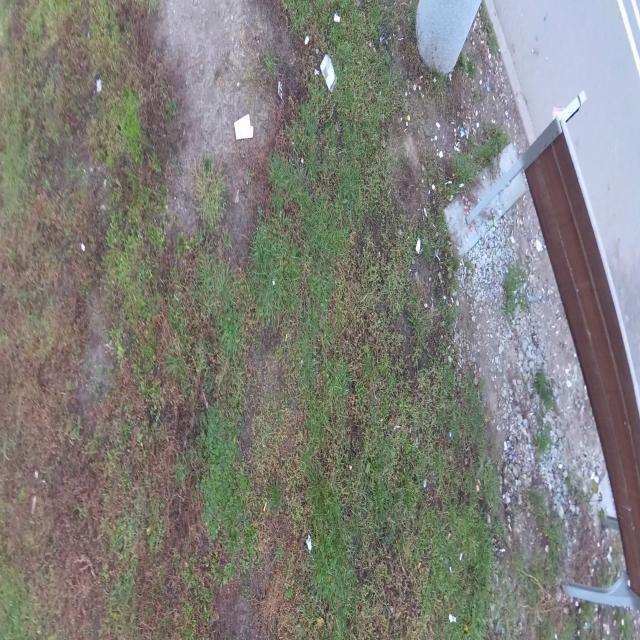rubbish: (319, 53, 337, 92), (234, 113, 256, 139)
